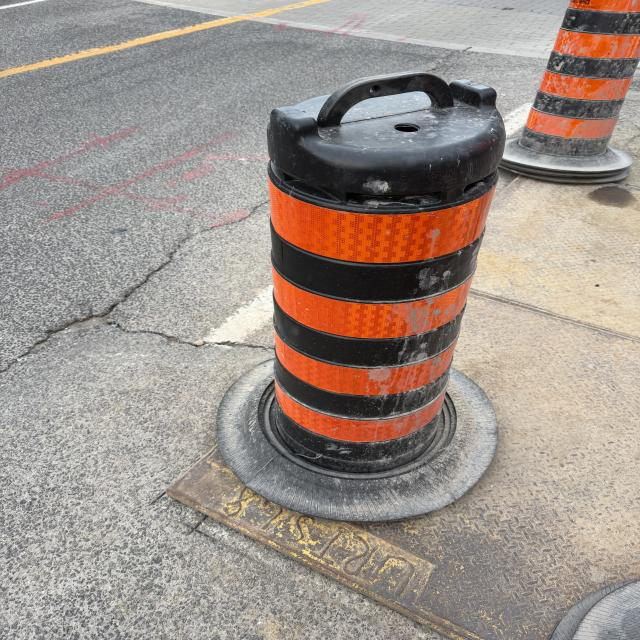Teraffic Barrel: (218, 72, 504, 520), (501, 0, 640, 183)
